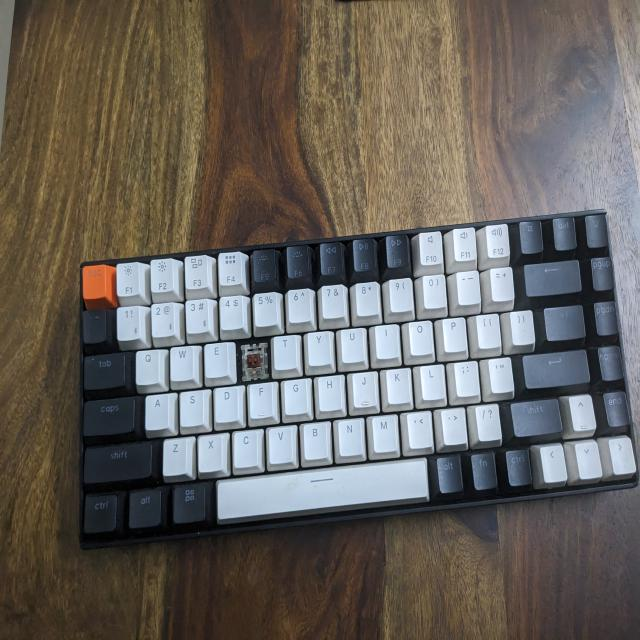C: (240, 342, 264, 375)
